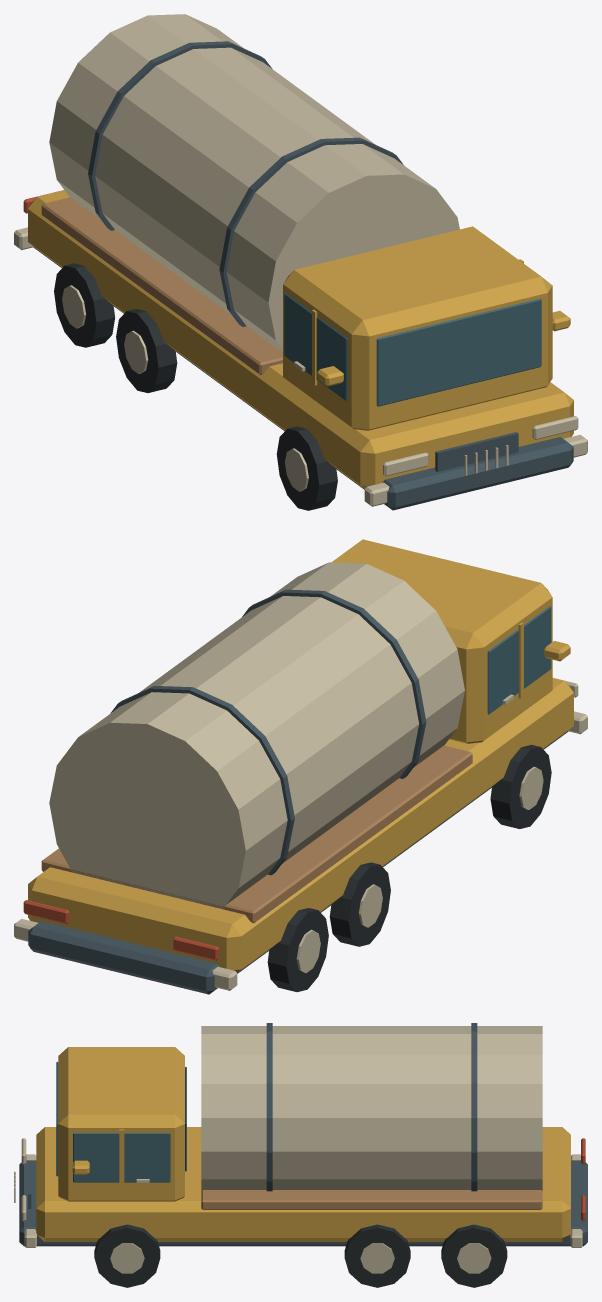
The model's file is vehicle_tanker.glb.
The picture shows the model from 3 angles, top to bottom: view 1: azimuth 30°, elevation 25°; view 2: azimuth 150°, elevation 25°; view 3: azimuth 270°, elevation 25°; orthographic projection. The views are drawn at different scales.
Visible parts, largest first — view 1: vehicle_tanker; view 2: vehicle_tanker; view 3: vehicle_tanker.
Boxes of the visible parts, x1,y1,x2,y2 form: vehicle_tanker: [14, 14, 587, 510]; vehicle_tanker: [14, 539, 587, 994]; vehicle_tanker: [14, 1023, 587, 1287].
Size of the model in its own units: 2.87 by 3.05 by 7.47.
